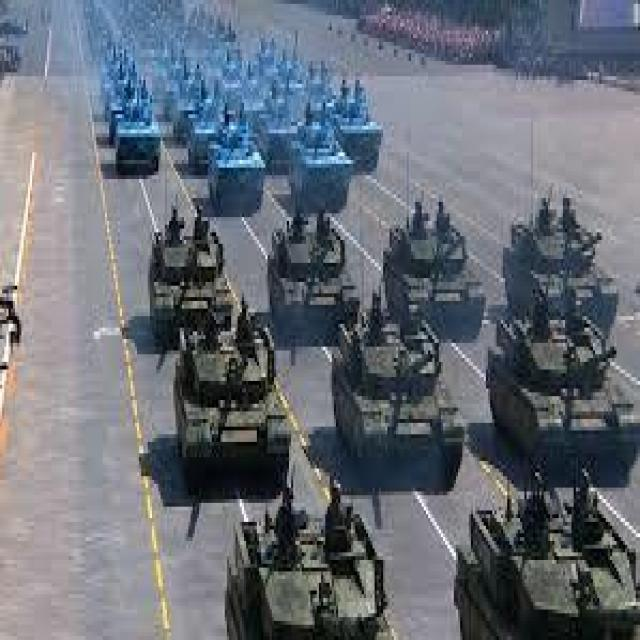Tanks: (220, 503, 394, 636), (469, 495, 638, 629), (333, 318, 468, 471), (492, 322, 634, 455), (178, 324, 295, 476), (503, 204, 621, 352), (384, 204, 498, 352), (266, 212, 360, 334), (146, 217, 231, 332), (288, 129, 358, 202), (206, 137, 268, 210), (337, 105, 384, 173), (114, 107, 160, 160)
